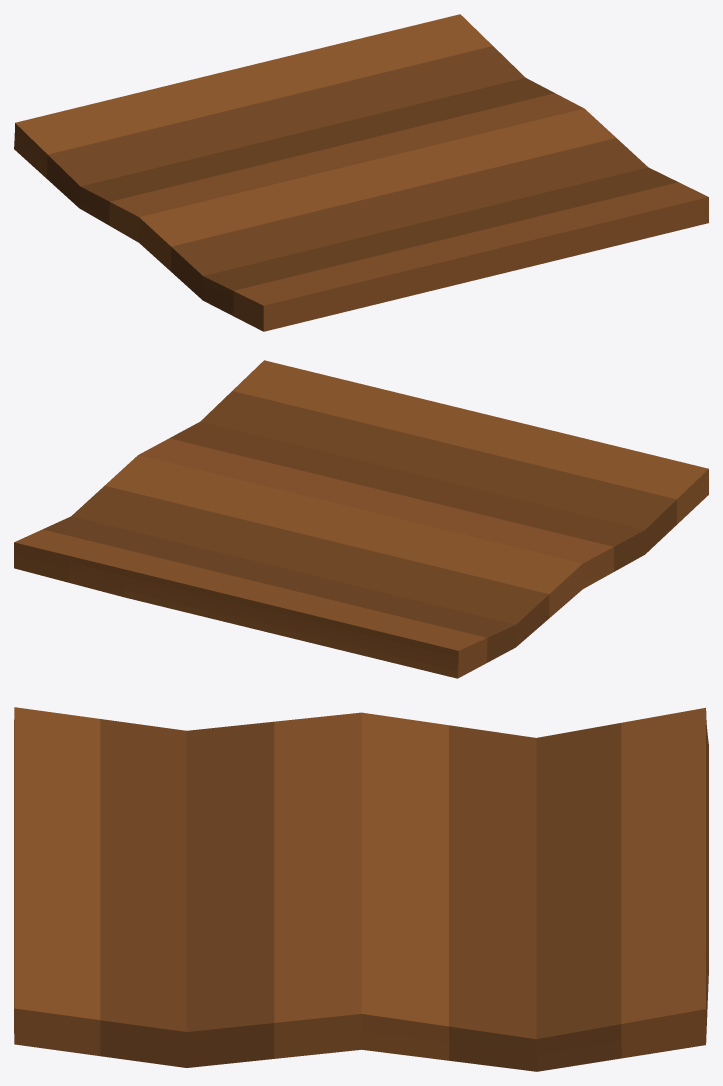
Rendered from soil.fbx.
3 renders of one model, top to bottom at view 1: azimuth 30°, elevation 25°; view 2: azimuth 150°, elevation 25°; view 3: azimuth 270°, elevation 25°, orthographic. The views are drawn at different scales.
Visible parts, largest first — view 1: Cube; view 2: Cube; view 3: Cube.
Boxes of the visible parts, x1,y1,x2,y2 form: Cube: (14,14,708,331); Cube: (14,360,708,678); Cube: (14,707,708,1071).
Size of the model in its own units: 101 by 9.34 by 97.48.
